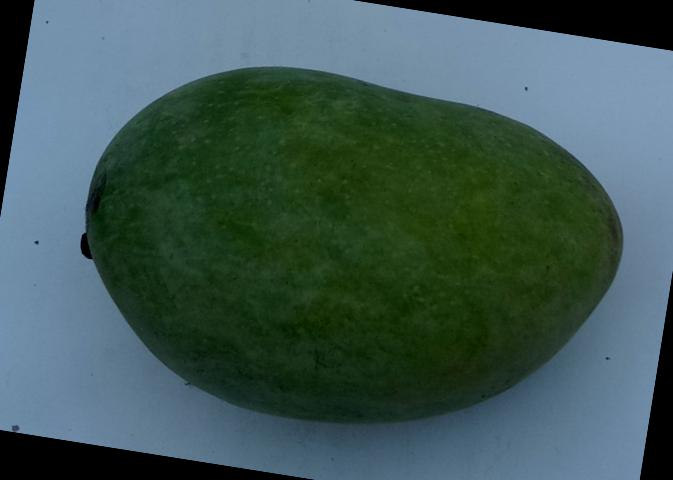Mango Unripe: (14, 0, 673, 480)
